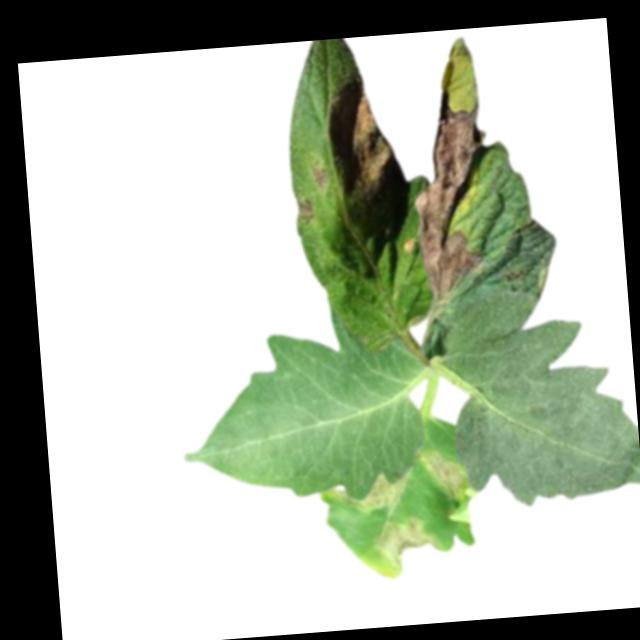Late_blight: (406, 87, 499, 296), (326, 74, 393, 204), (374, 514, 446, 575), (327, 469, 418, 517), (418, 447, 469, 510), (295, 195, 316, 225), (312, 166, 331, 191)
healthy: (175, 322, 437, 512), (430, 285, 640, 514)
